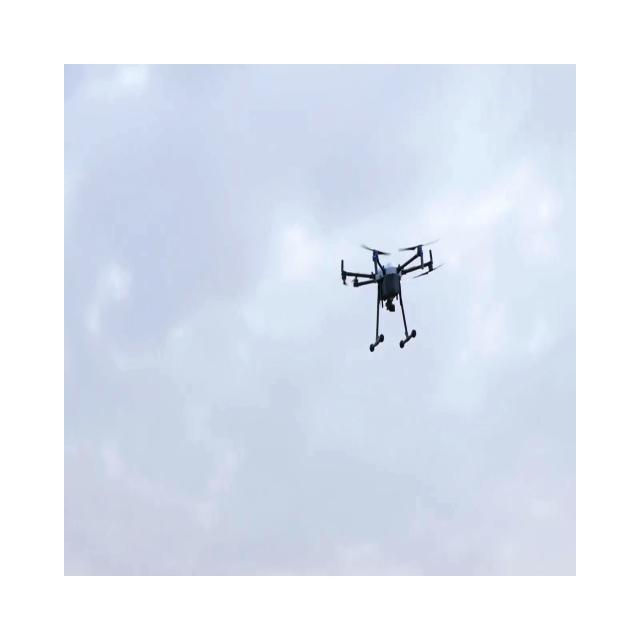drone: (340, 238, 444, 352)
